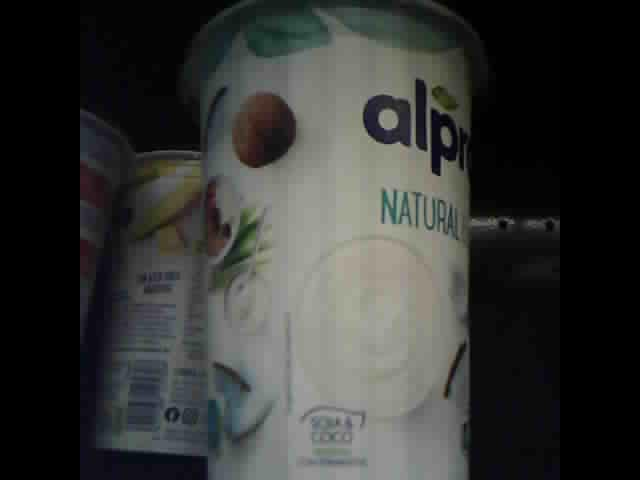alpro: (188, 1, 475, 480), (92, 153, 211, 461), (80, 104, 135, 368)
